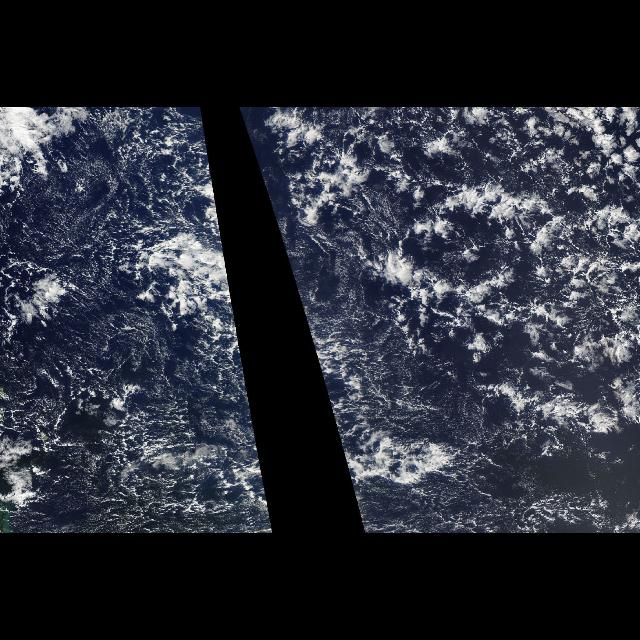Flower: (448, 170, 638, 286)
Gravel: (14, 115, 252, 533)
Sugar: (27, 121, 189, 259), (325, 210, 379, 386)
